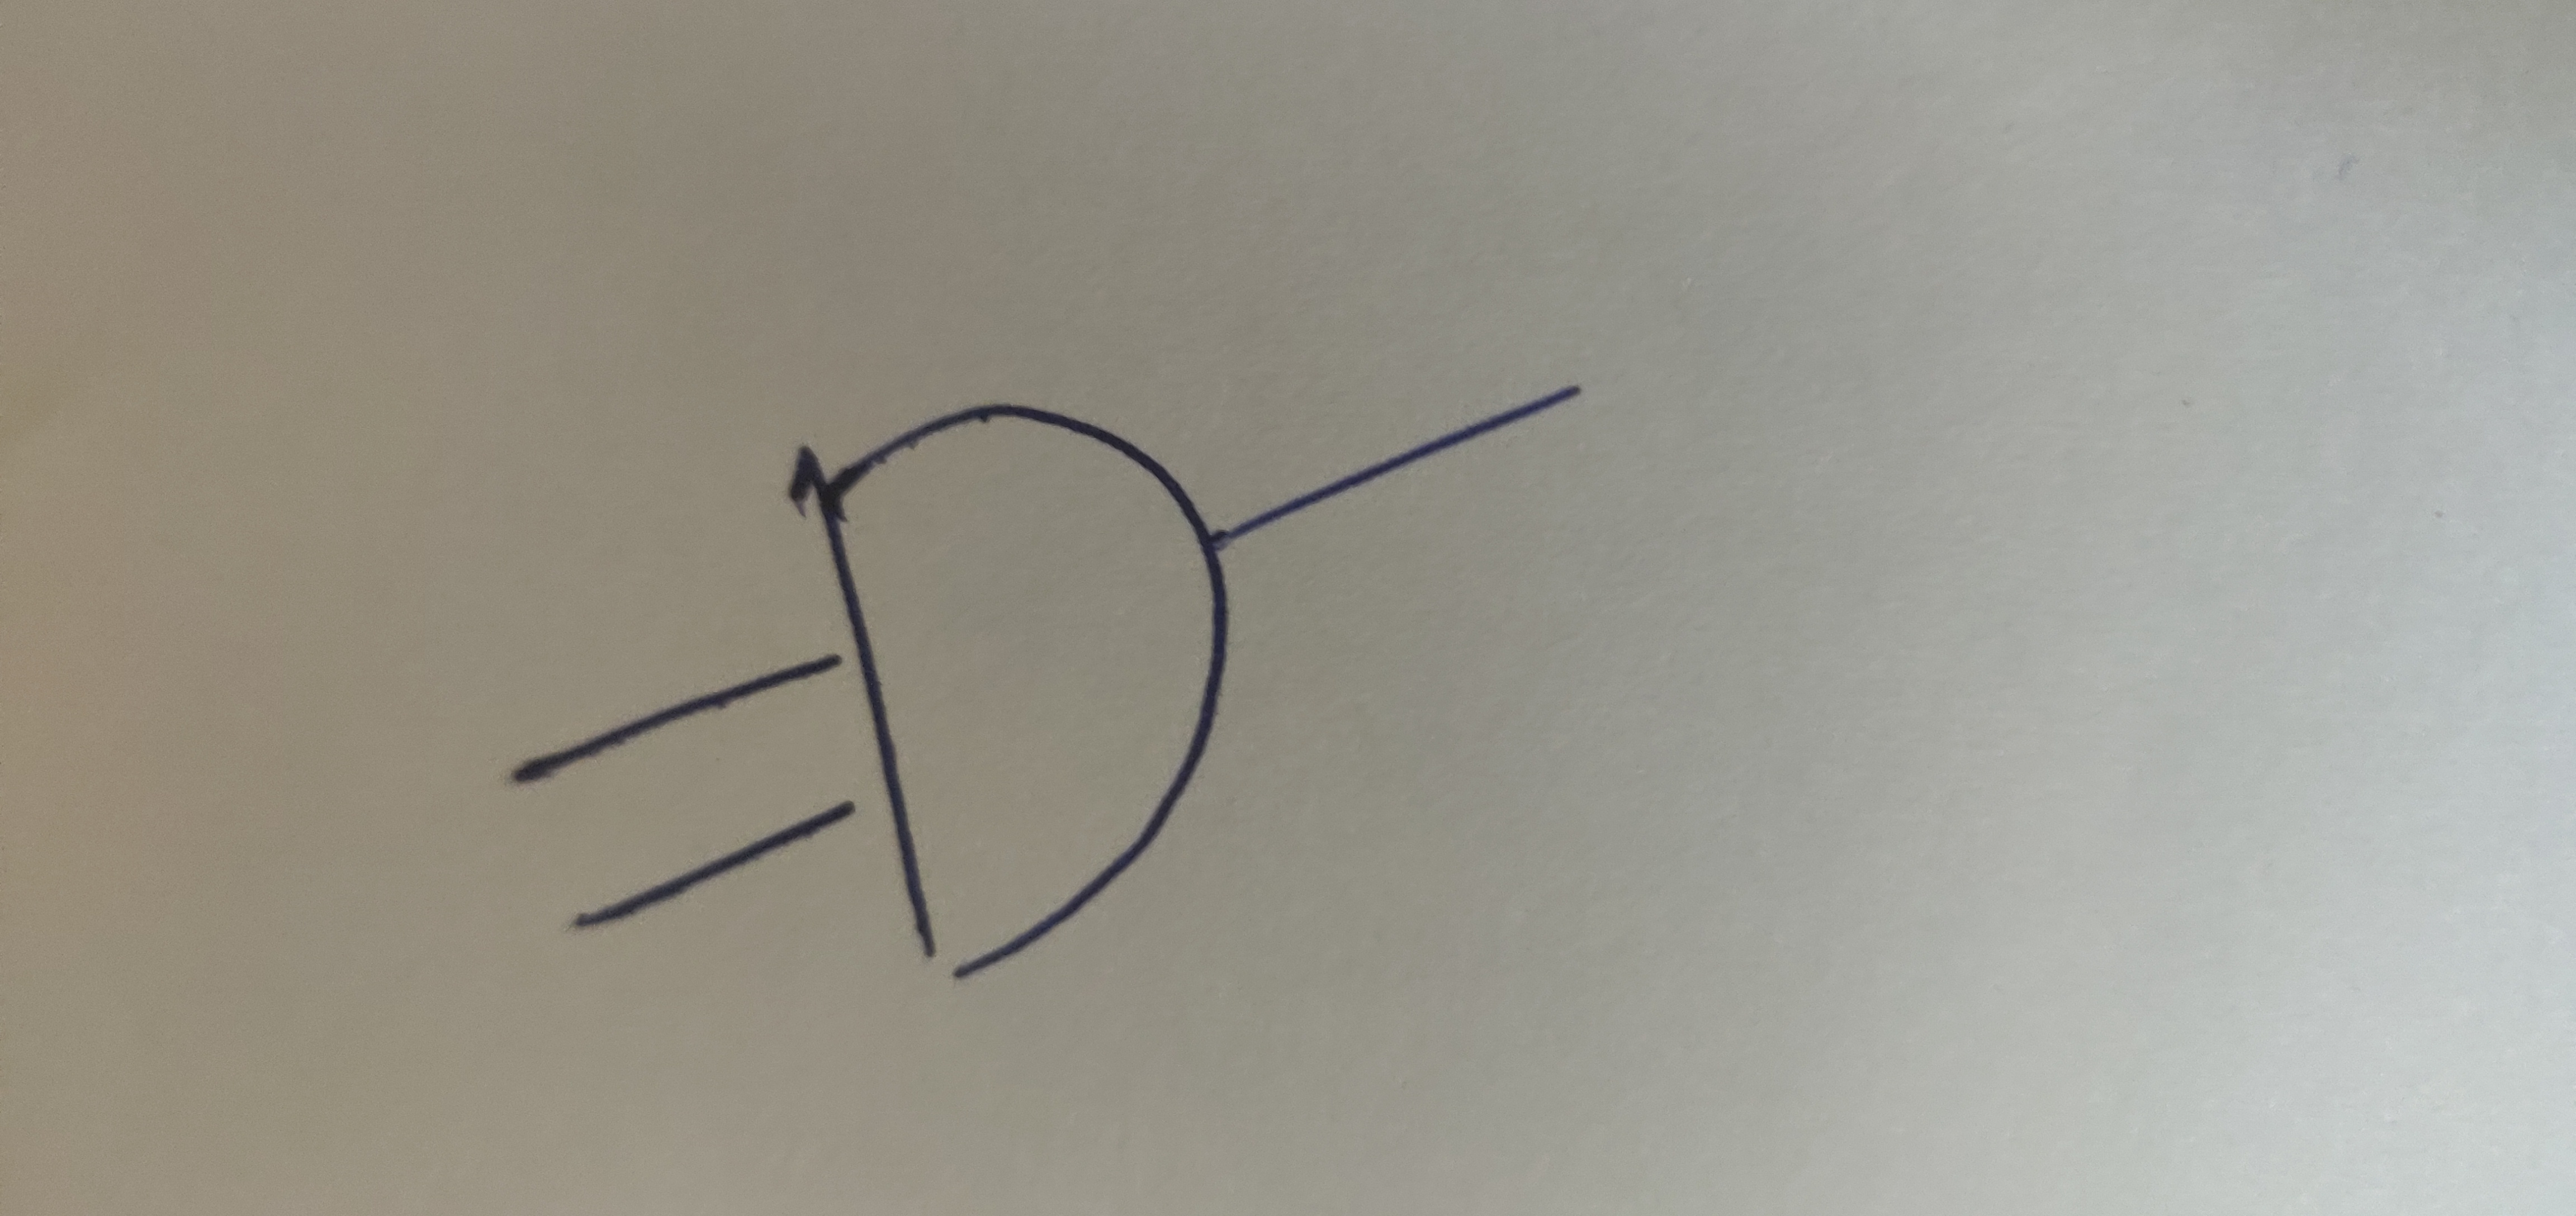and: (678, 289, 1357, 996)
